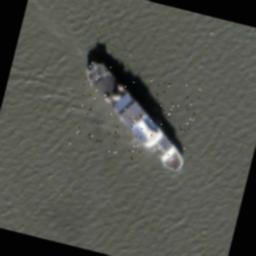boat: (67, 58, 202, 172)
